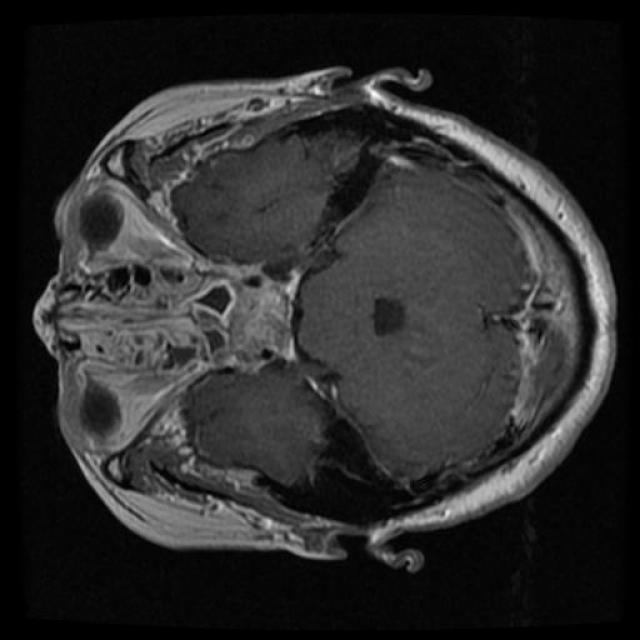Pituitary: (222, 256, 295, 366)
